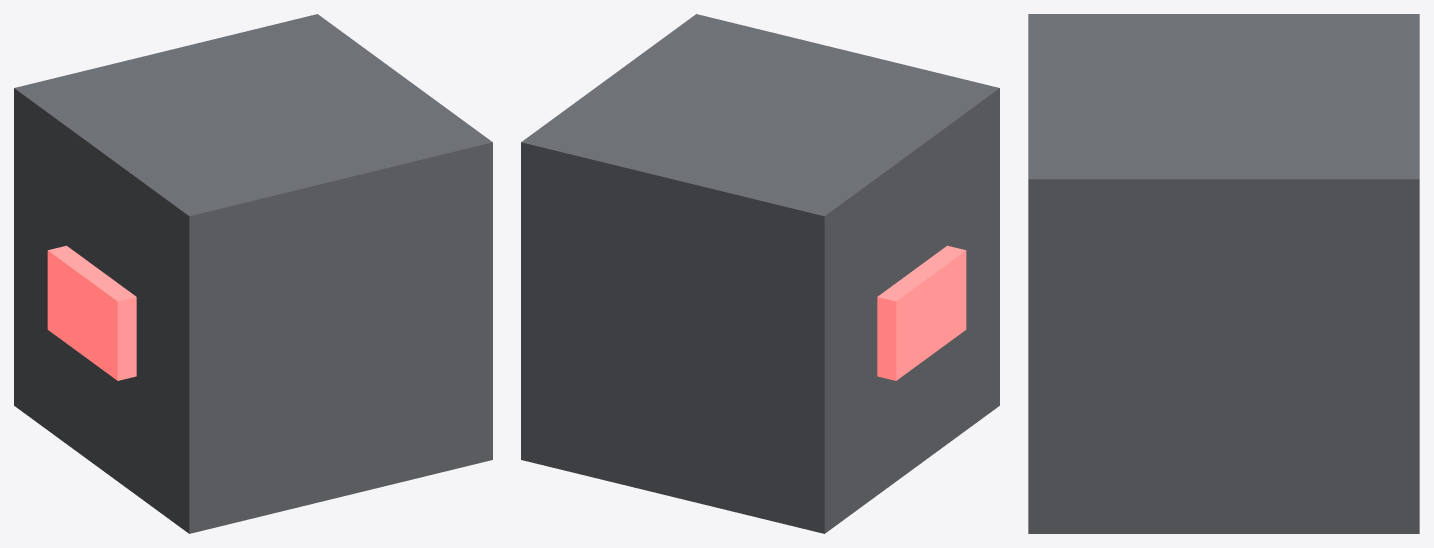
The model's file is Drone.glb.
3 views of the same model, side by side, from view 1: azimuth 30°, elevation 25°; view 2: azimuth 150°, elevation 25°; view 3: azimuth 270°, elevation 25° (orthographic). The views are drawn at different scales.
Visible parts, largest first — view 1: Drone_Mesh, Drone_Eye; view 2: Drone_Mesh, Drone_Eye; view 3: Drone_Mesh.
Part boxes in pixels (x1,y1,x2,y2): Drone_Mesh: [14, 14, 492, 533]; Drone_Eye: [47, 245, 136, 380]; Drone_Mesh: [521, 14, 999, 533]; Drone_Eye: [877, 245, 966, 380]; Drone_Mesh: [1028, 14, 1419, 533].
Bounding box in the file's own units: 0.425 × 0.4 × 0.4.
